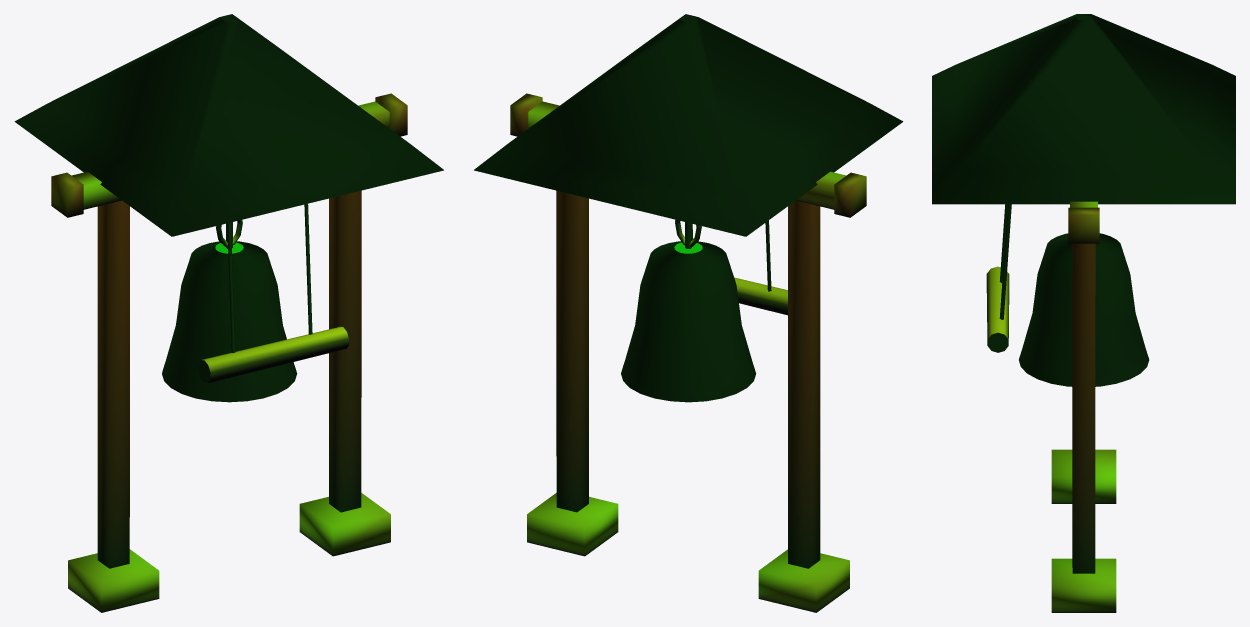
The model's file is crown_bell.glb.
3 renders of one model, left to right at view 1: azimuth 30°, elevation 25°; view 2: azimuth 150°, elevation 25°; view 3: azimuth 270°, elevation 25°, orthographic. The views are drawn at different scales.
Visible parts, largest first — view 1: crown_bell; view 2: crown_bell; view 3: crown_bell.
Part boxes in pixels (<box>): crown_bell: <box>14,14,443,612</box>; crown_bell: <box>474,14,903,612</box>; crown_bell: <box>932,14,1235,612</box>.
Size of what is drawn, in the model's own units: 2.2 by 3.39 by 1.77.
